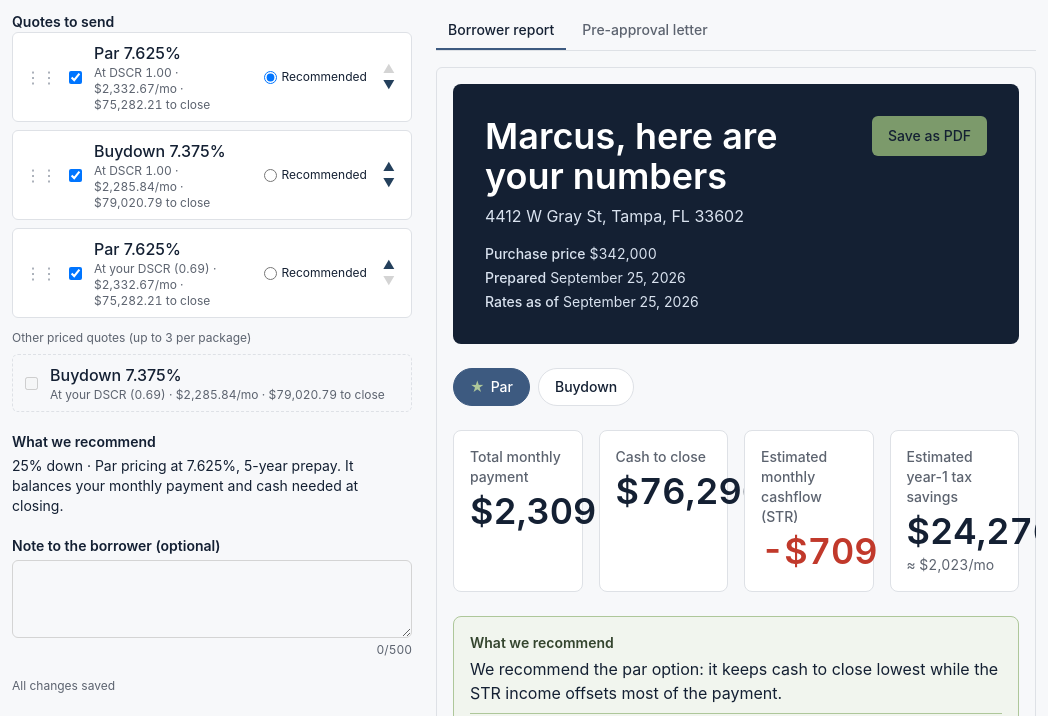
Test: Send-tab saves (PR #22 minor, T13) › the error stays while the failed edit is unsaved, and Retry re-sends it
Click the checkbox named "Include Par 7.625% (At your DSCR (0.69))".
click(76, 273)  # box [69,266,82,280]
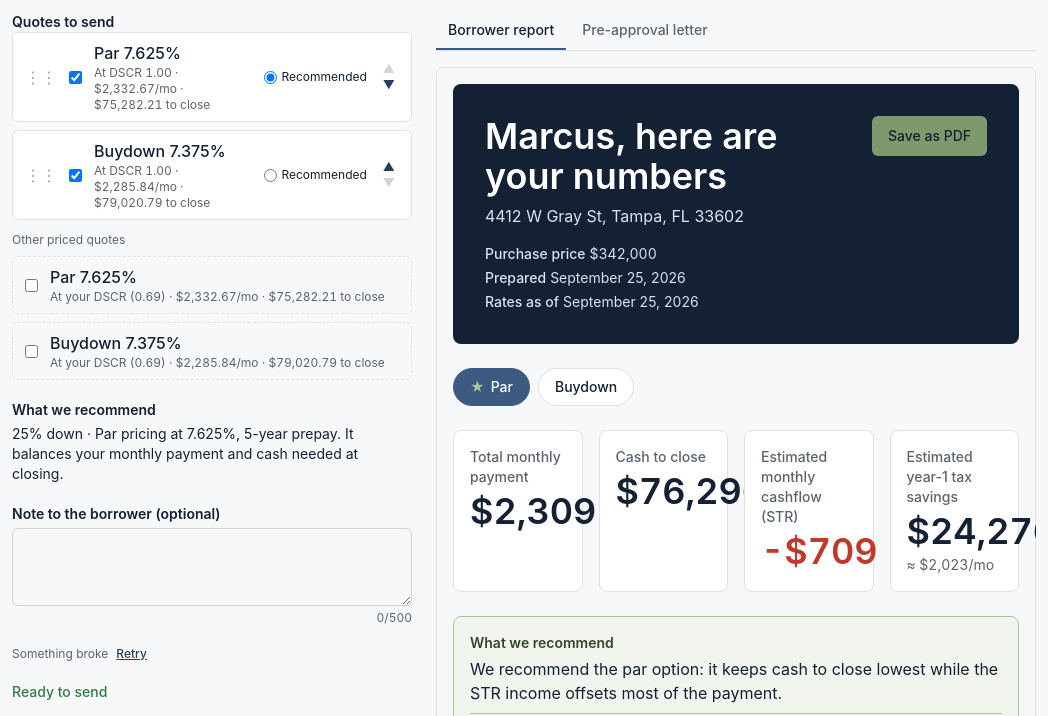
Check: the text with test id "save-status" reads "Something broke", box [12,646,108,661]
Click the 2nd radio button labelled "Recommended".
click(271, 175)  # box [264,168,278,182]
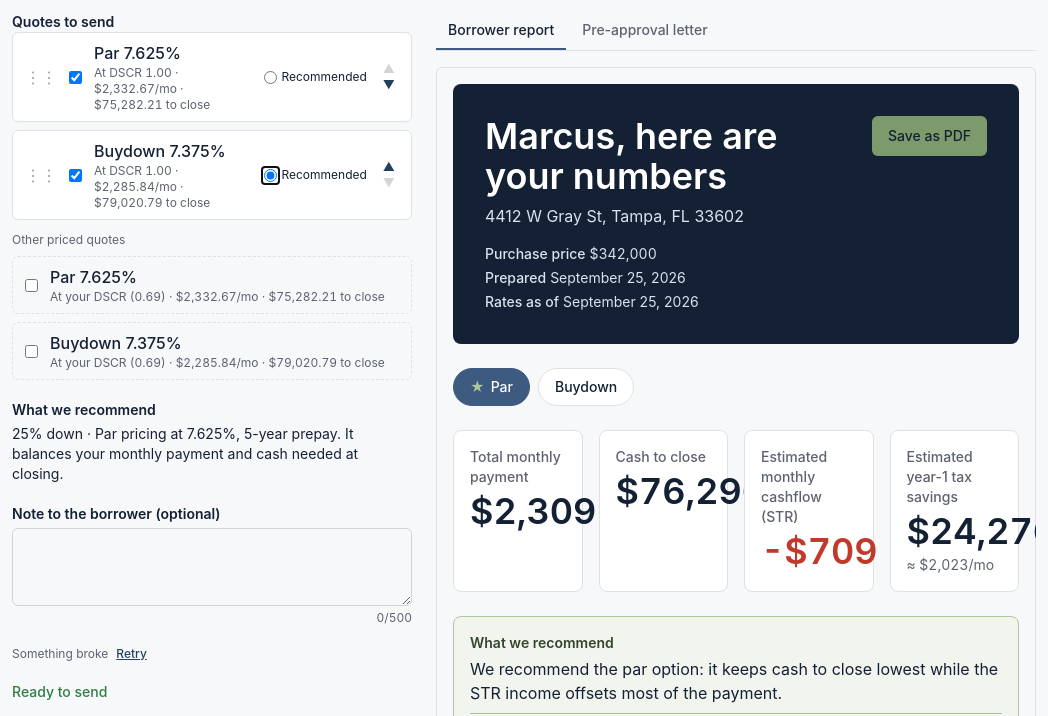
Check: the text with test id "save-status" reads "Something broke", box [12,646,108,661]
Click the button "Retry".
click(132, 654)  # box [116,646,147,662]
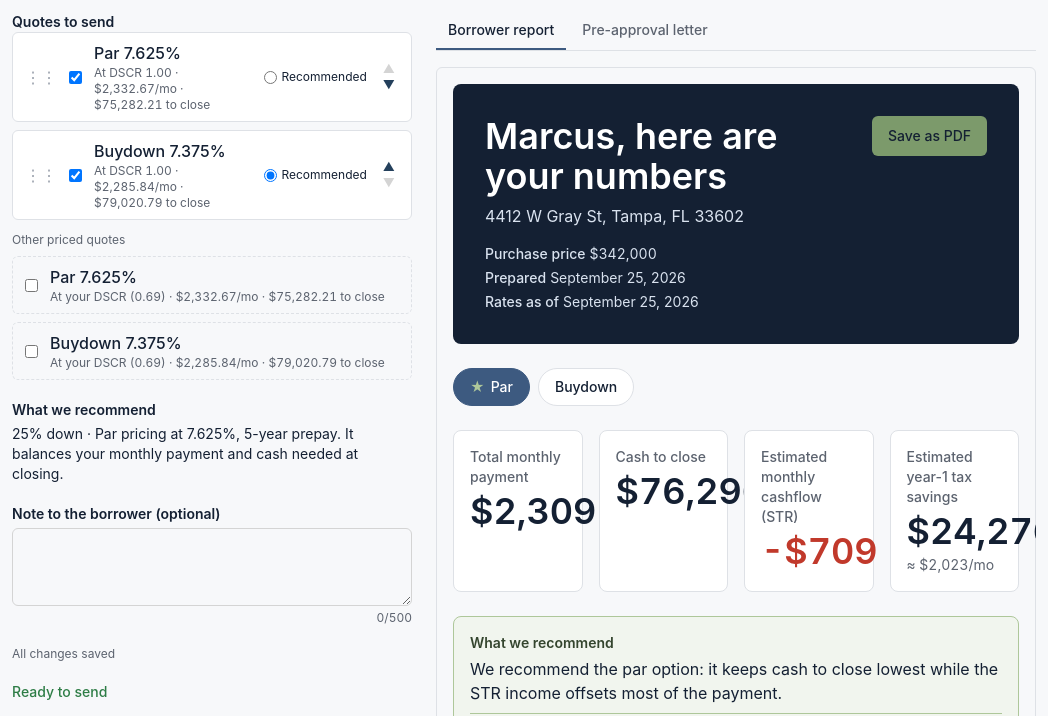
Check: the text with test id "save-status" reads "All changes saved", box [12,646,115,661]
